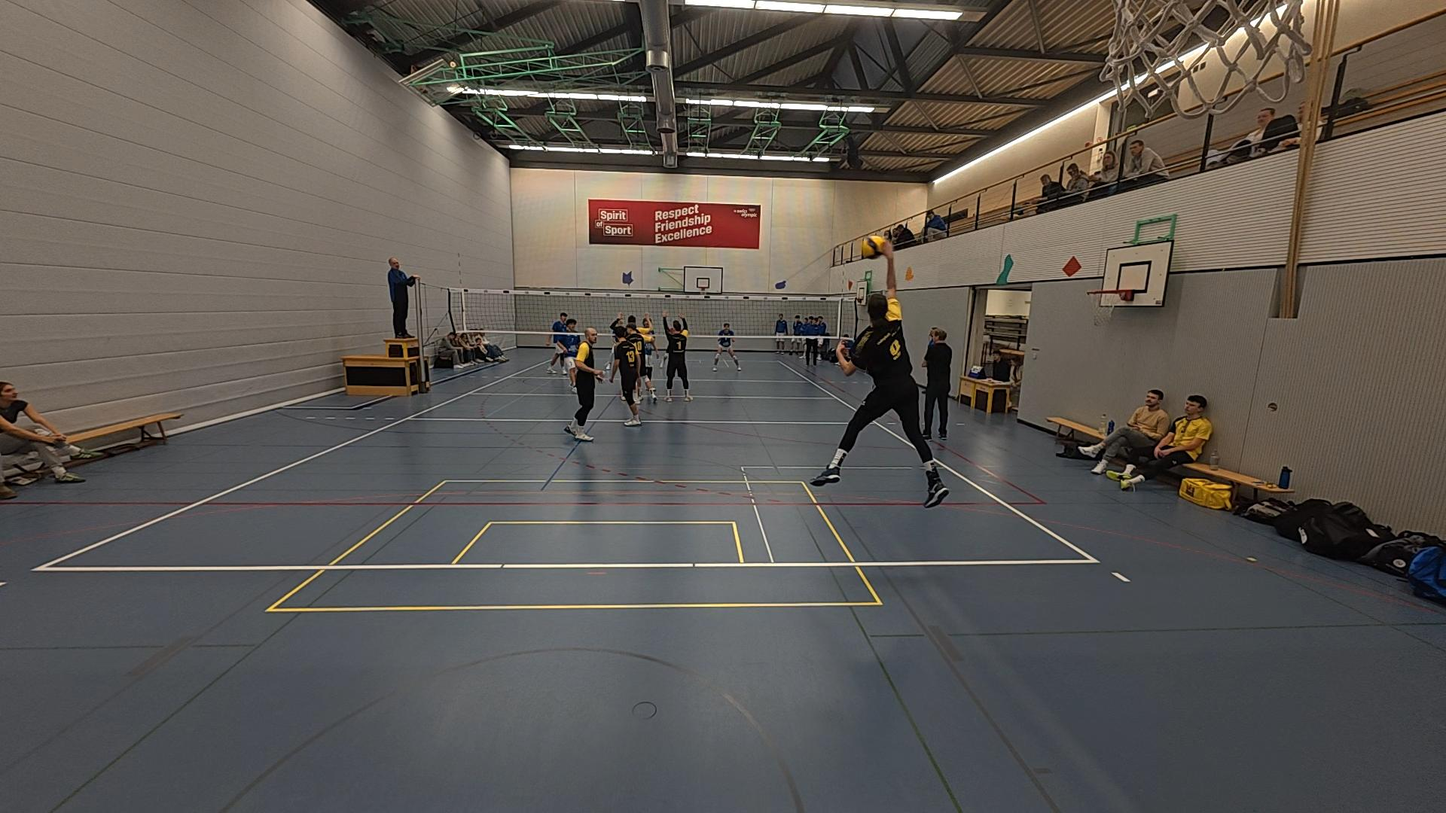battuta: (807, 241, 949, 508)
